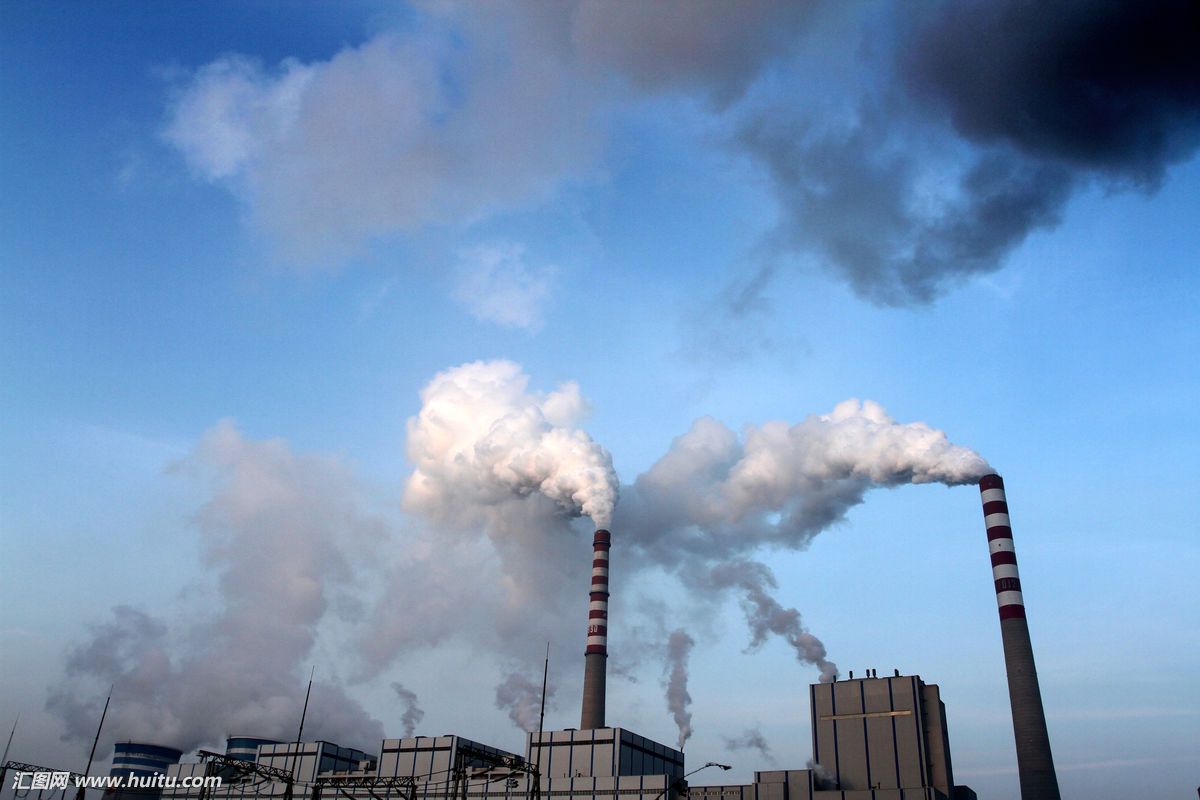dust: (398, 343, 629, 542), (78, 540, 284, 759), (679, 394, 1017, 509), (660, 618, 718, 757)
